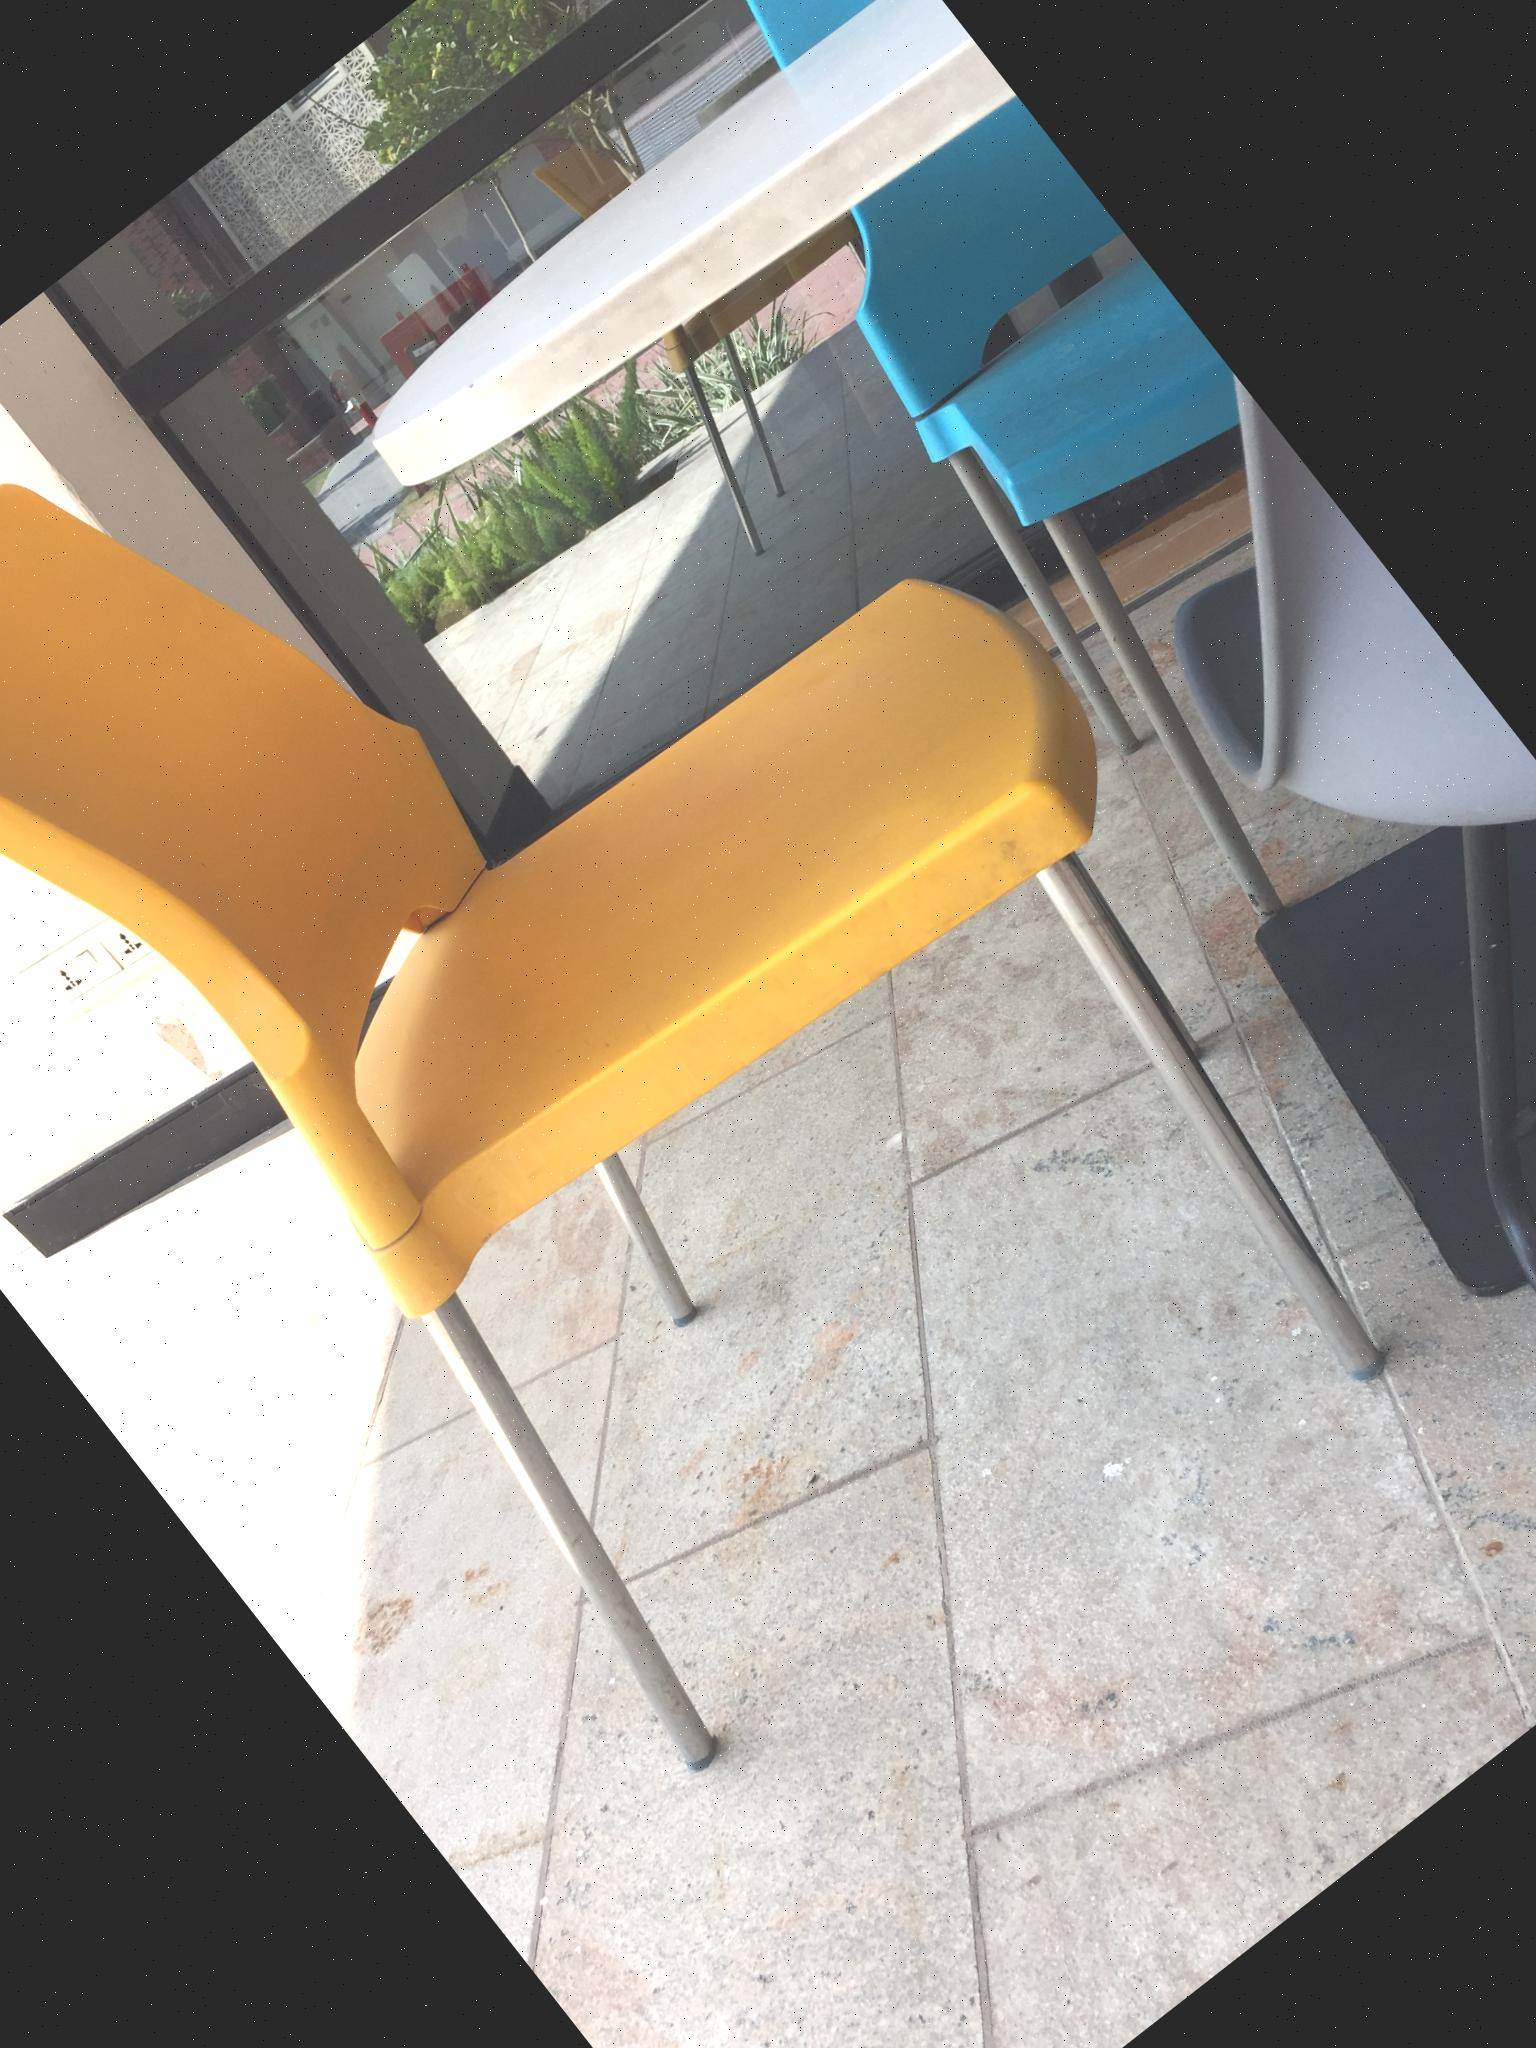chair: (0, 6, 1521, 1917), (937, 373, 1536, 1587)
